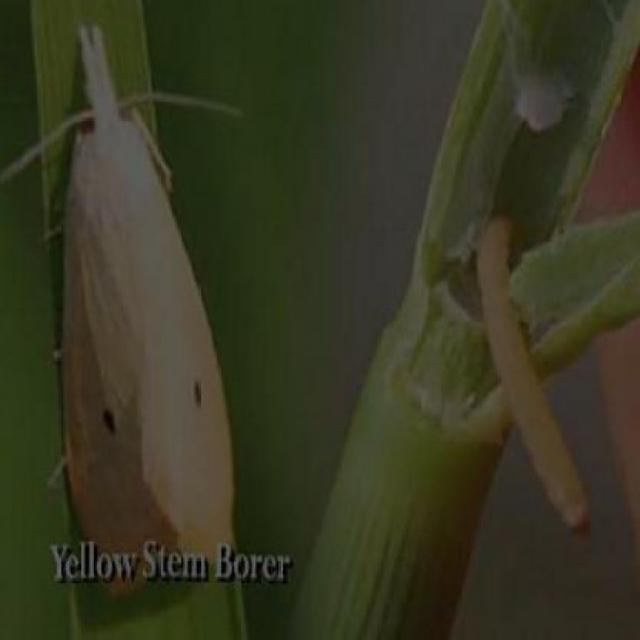stem-borer: (51, 18, 237, 531)
